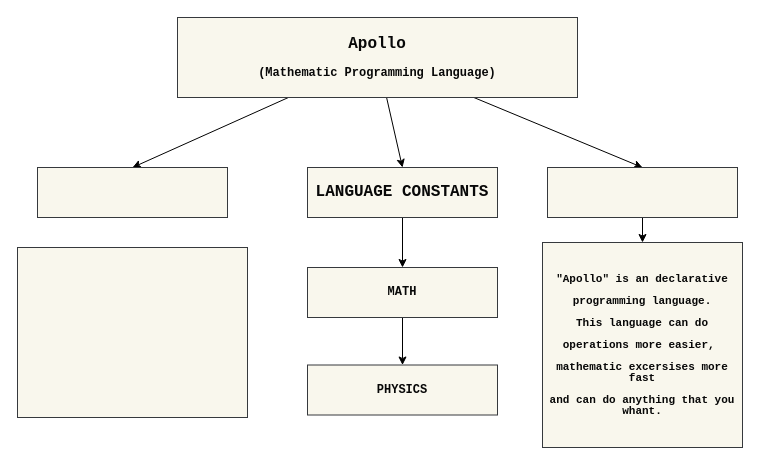
Image size: 760x465. Some labels were removed from this diagram. Each missing label, with the centre of its shape:
"ABOUT" goes at (x=642, y=192).
"LANGUAGE KEYWORDS AND METHODS" goes at (x=132, y=192).
"PROCEDURE SHOW SAVE WITH AND THEN RETURN ADD" goes at (x=132, y=332).
